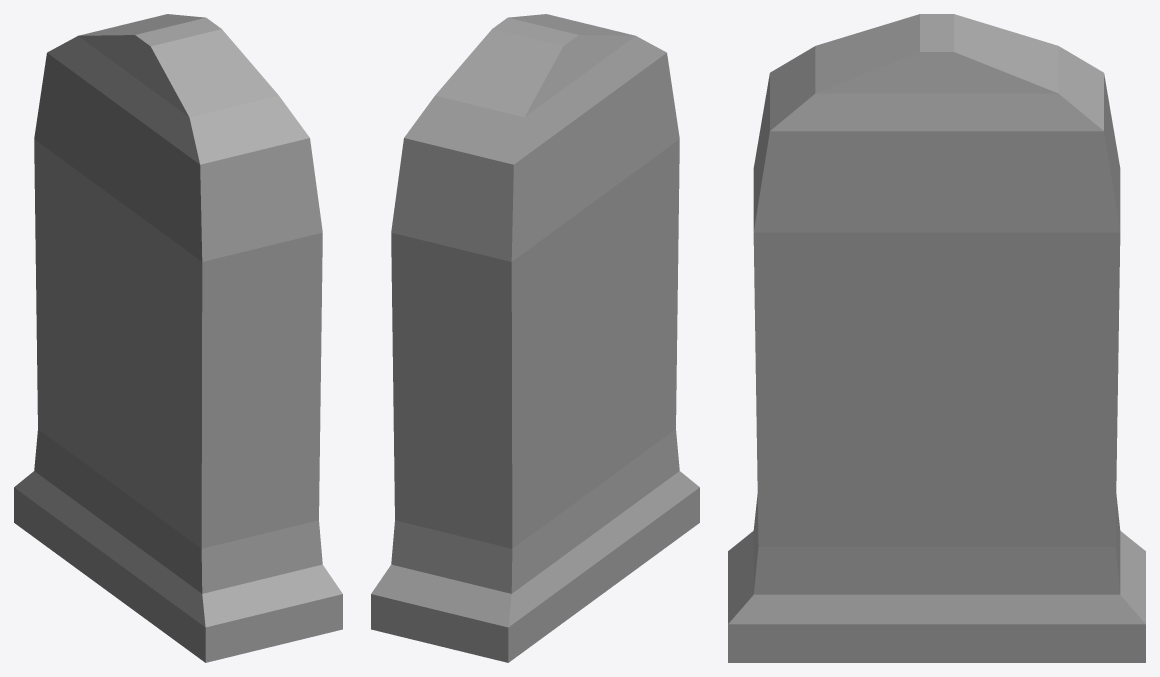
File: tombstone4.fbx
3 renders of one model, left to right at view 1: azimuth 30°, elevation 25°; view 2: azimuth 150°, elevation 25°; view 3: azimuth 270°, elevation 25°, orthographic. The views are drawn at different scales.
Visible parts, largest first — view 1: tombstone4; view 2: tombstone4; view 3: tombstone4.
Boxes of the visible parts, x1,y1,x2,y2 form: tombstone4: (14, 14, 342, 662); tombstone4: (371, 14, 699, 662); tombstone4: (728, 14, 1145, 662).
Size of the model in its own units: 81.7 by 309 by 197.
